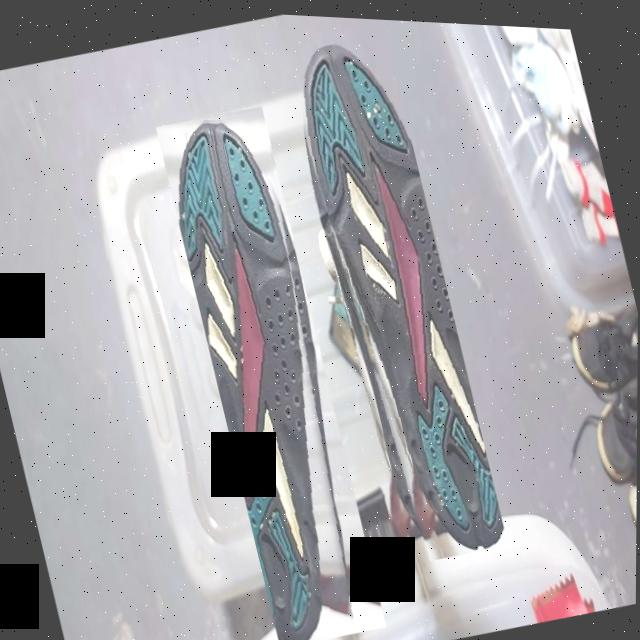shoe: (153, 98, 390, 640), (277, 22, 512, 566)
